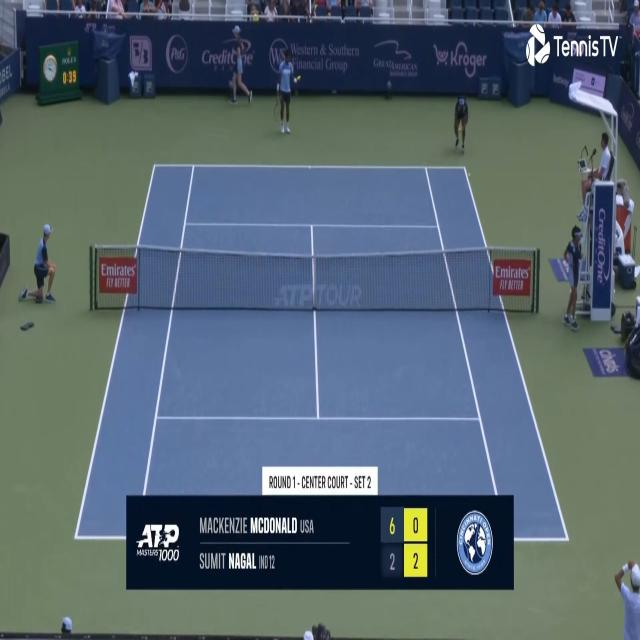tennis-player: (273, 49, 302, 135), (613, 554, 639, 638)
